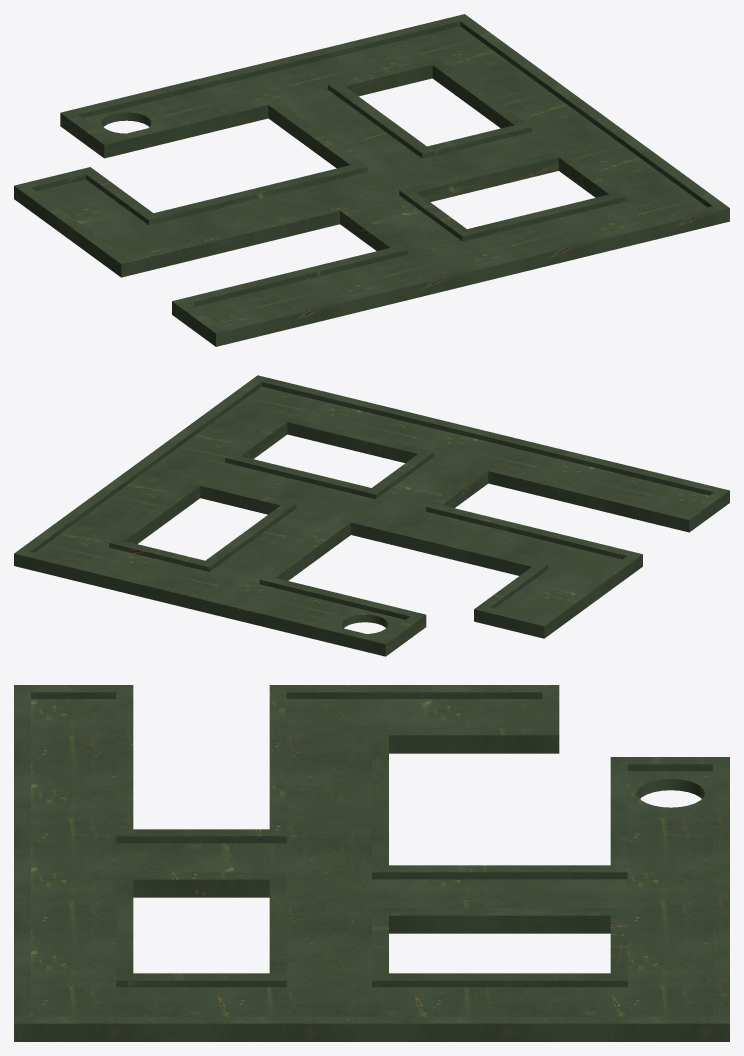
The model's file is path.gltf.
3 renders of one model, top to bottom at view 1: azimuth 30°, elevation 25°; view 2: azimuth 150°, elevation 25°; view 3: azimuth 270°, elevation 25°, orthographic. The views are drawn at different scales.
Visible parts, largest first — view 1: path; view 2: path; view 3: path.
Boxes of the visible parts, x1,y1,x2,y2 form: path: (14, 14, 729, 346); path: (14, 375, 729, 656); path: (14, 685, 729, 1041).
Size of the model in its own units: 9.45 by 0.2366 by 8.45.
Materials: 1 (1 with a texture image).
